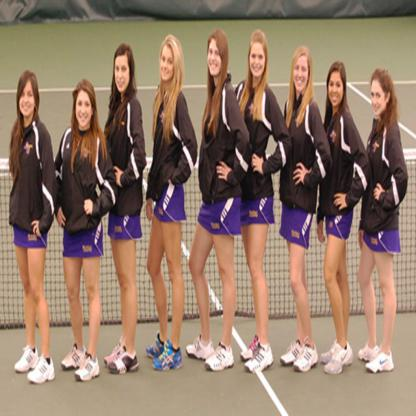face: (76, 91, 92, 127), (250, 43, 266, 78), (20, 81, 35, 117), (116, 57, 131, 93), (329, 71, 344, 107), (294, 57, 309, 92), (208, 40, 222, 76), (372, 80, 385, 117), (161, 45, 174, 81)
